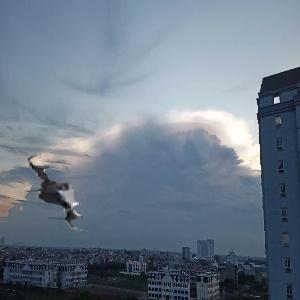drone: (11, 151, 98, 238)
